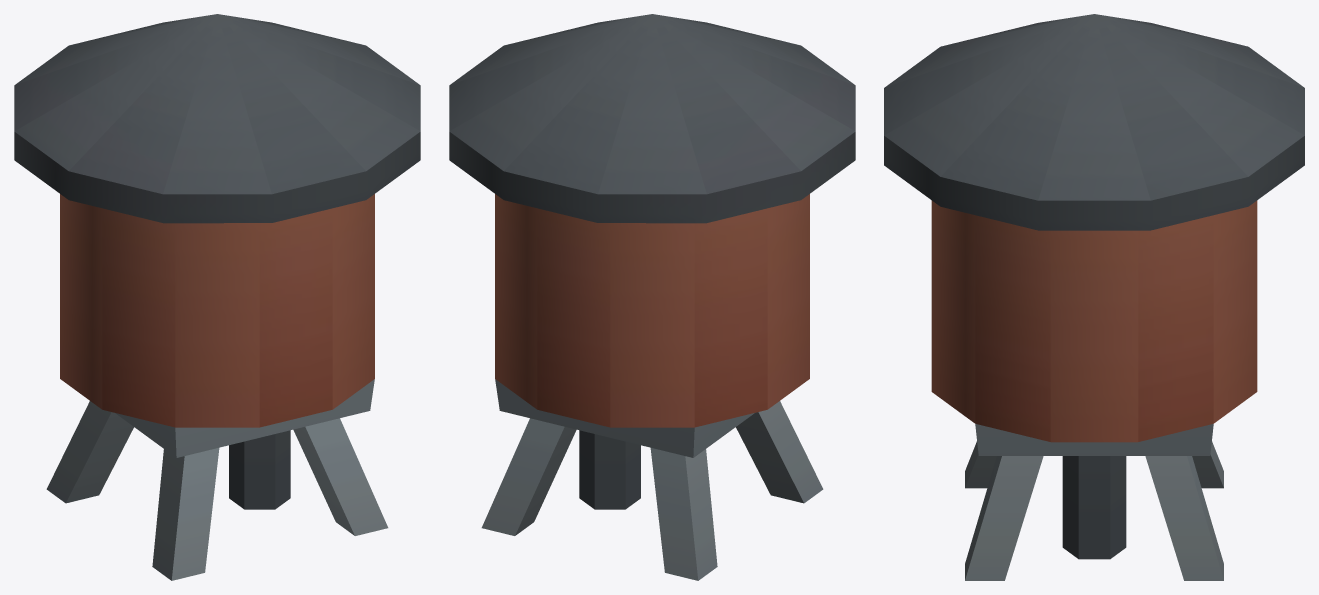
Rendered from watertower.glb.
3 views of the same model, side by side, from view 1: azimuth 30°, elevation 25°; view 2: azimuth 150°, elevation 25°; view 3: azimuth 270°, elevation 25° (orthographic). The views are drawn at different scales.
Parts seen in each view (by area): view 1: watertower; view 2: watertower; view 3: watertower.
Boxes of the visible parts, box(x1,y1,x2,y2) form: watertower: box(14, 14, 420, 580); watertower: box(449, 14, 855, 580); watertower: box(884, 14, 1304, 580).
Size of the model in its own units: 0.4989 by 0.67 by 0.4989.
1 material, 1 textured.
